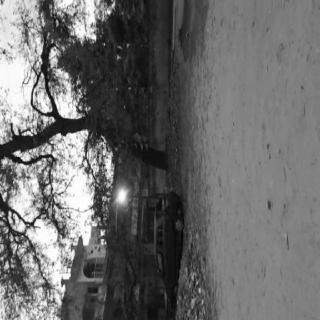other: (109, 177, 135, 214)
